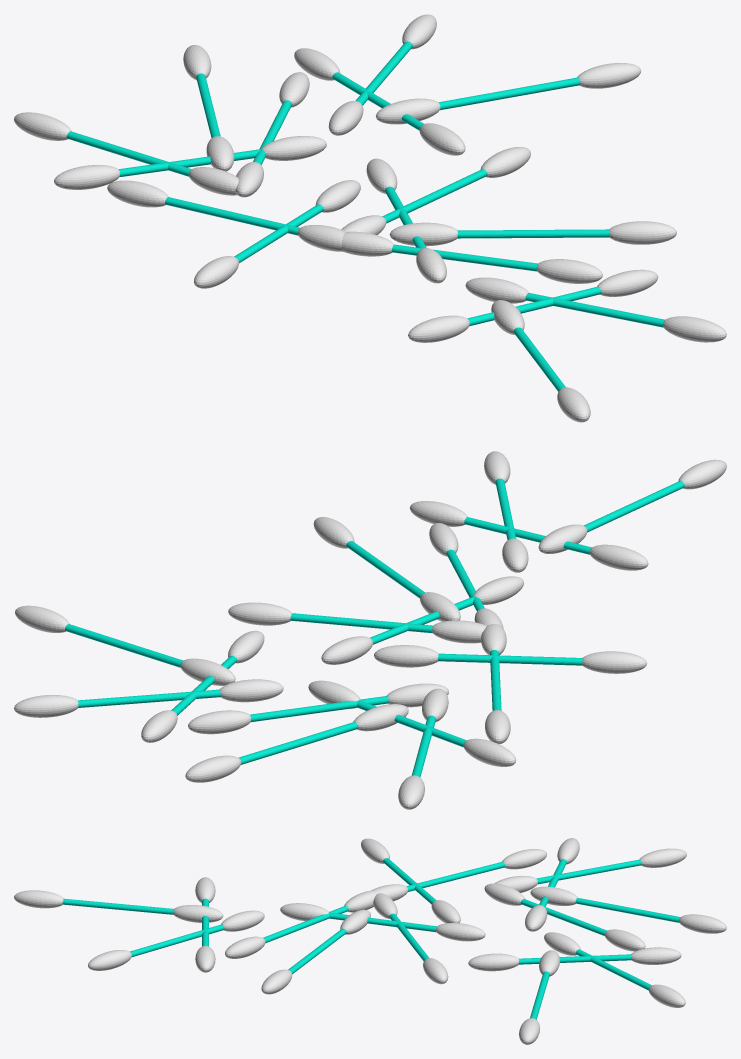
The model's file is q-tip-cluster.fbx.
The picture shows the model from 3 angles, top to bottom: view 1: azimuth 30°, elevation 25°; view 2: azimuth 150°, elevation 25°; view 3: azimuth 270°, elevation 25°; orthographic projection. The views are drawn at different scales.
Parts seen in each view (by area): view 1: Sphere.010, Cylinder.005, Sphere.003, Sphere.016, Sphere.006, Sphere.017, Sphere.026, Cylinder.013, Sphere.011, Sphere.001, Sphere.019, Sphere.007 (+33 smaller); view 2: Sphere.013, Sphere.012, Sphere.025, Sphere.009, Sphere.024, Sphere.028, Cylinder.006, Cylinder.012, Cylinder.004, Sphere.001, Cylinder.014, Sphere.021 (+32 smaller); view 3: Sphere.030, Cylinder.002, Sphere.031, Sphere.005, Sphere.015, Sphere.021, Cylinder.010, Sphere.022, Sphere.004, Cylinder.011, Sphere.019, Sphere.020 (+34 smaller).
Part boxes in pixels (x1,y1,x2,y2): Sphere.010: (609, 221, 676, 244); Cylinder.005: (457, 229, 609, 238); Sphere.003: (536, 259, 602, 283); Sphere.016: (54, 165, 119, 189); Sphere.006: (663, 316, 726, 342); Sphere.017: (262, 136, 326, 160); Sphere.026: (577, 63, 641, 88); Cylinder.013: (439, 77, 580, 110); Sphere.011: (389, 222, 457, 246); Sphere.001: (408, 315, 469, 342); Sphere.019: (107, 180, 168, 207); Sphere.007: (465, 277, 528, 303); Sphere.013: (582, 651, 647, 673); Sphere.012: (374, 645, 438, 667); Sphere.025: (14, 695, 78, 717); Sphere.009: (228, 602, 291, 625); Sphere.024: (219, 679, 283, 702); Sphere.028: (188, 710, 250, 734); Cylinder.006: (438, 653, 582, 665); Cylinder.012: (78, 689, 220, 707); Cylinder.004: (290, 613, 432, 633); Sphere.001: (589, 544, 648, 570); Cylinder.014: (250, 696, 388, 722); Sphere.021: (185, 755, 241, 782); Sphere.030: (468, 953, 518, 971); Cylinder.002: (62, 898, 173, 914); Sphere.031: (631, 947, 681, 964); Sphere.005: (14, 890, 63, 908); Sphere.015: (436, 923, 485, 941); Sphere.021: (679, 914, 726, 933); Cylinder.010: (575, 898, 679, 922); Sphere.022: (639, 848, 686, 867); Sphere.004: (173, 905, 223, 922); Cylinder.011: (536, 859, 641, 884); Sphere.019: (502, 849, 547, 869); Sphere.020: (530, 886, 577, 905).
Bounding box in the file's own units: 517 × 18.38 × 771.
